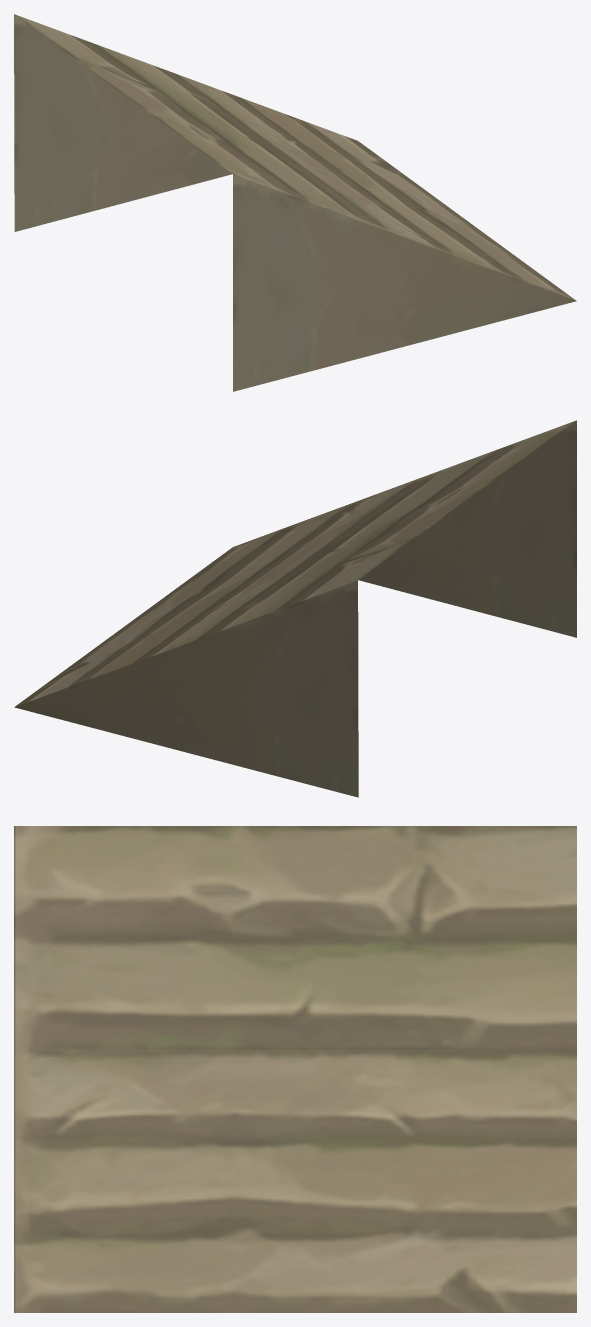
File: LouTi02.FBX
3 views of the same model, one above another, from view 1: azimuth 30°, elevation 25°; view 2: azimuth 150°, elevation 25°; view 3: azimuth 270°, elevation 25° (orthographic). The views are drawn at different scales.
Visible parts, largest first — view 1: LouTi02; view 2: LouTi02; view 3: LouTi02.
Boxes of the visible parts, left/top/right/bottom form: LouTi02: left=14, top=14, right=576, bottom=391; LouTi02: left=14, top=420, right=576, bottom=797; LouTi02: left=14, top=826, right=576, bottom=1312.
Size of the model in its own units: 101 by 61.31 by 112.
